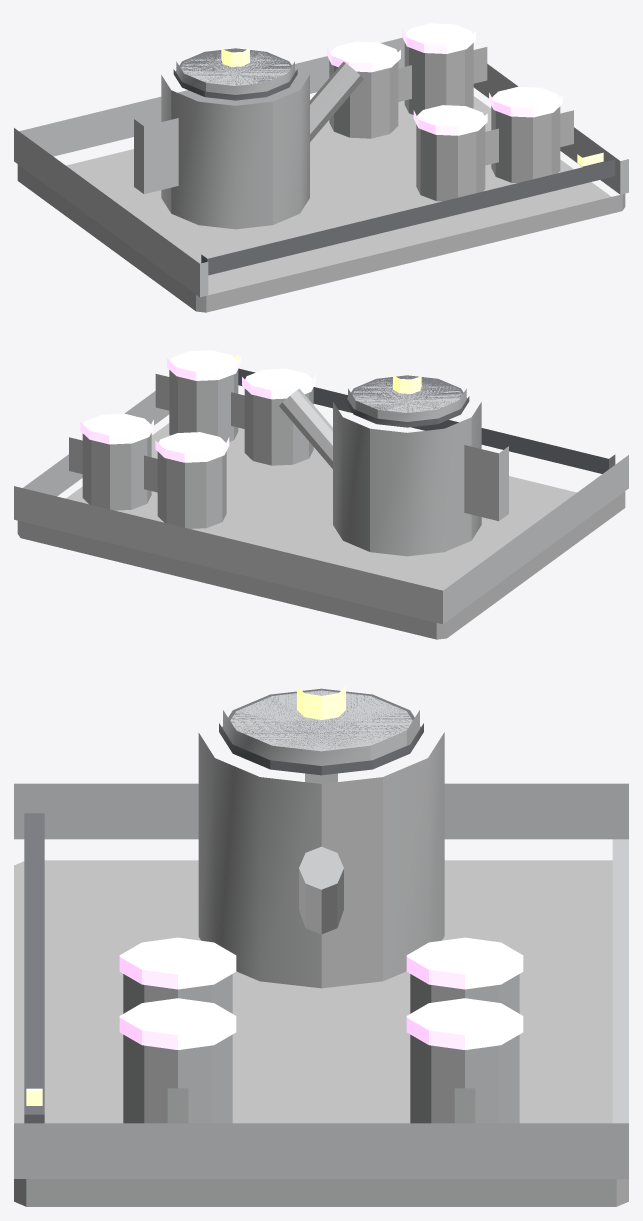
The model's file is iter_05.glb.
3 views of the same model, one above another, from view 1: azimuth 30°, elevation 25°; view 2: azimuth 150°, elevation 25°; view 3: azimuth 270°, elevation 25° (orthographic). The views are drawn at different scales.
Parts seen in each view (by area): view 1: Tray, Pot_Body, Cups, Fence, Gate_Bar, Sip_Lids, Pot_Lid, Pot_Handle, Lid_Thread, Cup_Handles, Spout, Lid_Knob; view 2: Tray, Fence, Pot_Body, Cups, Sip_Lids, Pot_Lid, Gate_Bar, Pot_Handle, Lid_Thread, Cup_Handles, Spout, Lid_Knob; view 3: Tray, Fence, Pot_Body, Cups, Sip_Lids, Pot_Lid, Gate_Bar, Lid_Thread, Spout, Cup_Handles, Lid_Knob.
Boxes of the visible parts, x1=… form: Tray: x1=17, y1=96, x2=625, y2=312; Pot_Body: x1=161, y1=75, x2=309, y2=229; Cups: x1=329, y1=42, x2=560, y2=201; Fence: x1=14, y1=37, x2=628, y2=297; Gate_Bar: x1=201, y1=159, x2=615, y2=275; Sip_Lids: x1=327, y1=23, x2=562, y2=135; Pot_Lid: x1=176, y1=52, x2=294, y2=94; Pot_Handle: x1=134, y1=118, x2=178, y2=194; Lid_Thread: x1=173, y1=48, x2=297, y2=100; Cup_Handles: x1=398, y1=47, x2=573, y2=165; Spout: x1=310, y1=62, x2=363, y2=141; Lid_Knob: x1=221, y1=45, x2=249, y2=66; Tray: x1=17, y1=423, x2=625, y2=639; Fence: x1=14, y1=391, x2=628, y2=624; Pot_Body: x1=333, y1=402, x2=481, y2=556; Cups: x1=82, y1=369, x2=313, y2=528; Sip_Lids: x1=80, y1=350, x2=315, y2=462; Pot_Lid: x1=348, y1=377, x2=466, y2=421; Gate_Bar: x1=238, y1=368, x2=615, y2=473; Pot_Handle: x1=464, y1=445, x2=508, y2=521; Lid_Thread: x1=345, y1=375, x2=469, y2=427; Cup_Handles: x1=69, y1=374, x2=244, y2=492; Spout: x1=279, y1=389, x2=332, y2=468; Lid_Knob: x1=393, y1=372, x2=421, y2=393; Tray: x1=14, y1=860, x2=628, y2=1206; Fence: x1=14, y1=783, x2=628, y2=1178; Pot_Body: x1=198, y1=732, x2=444, y2=988; Cups: x1=123, y1=974, x2=519, y2=1123; Sip_Lids: x1=119, y1=937, x2=523, y2=1049; Pot_Lid: x1=223, y1=690, x2=419, y2=765; Gate_Bar: x1=24, y1=813, x2=44, y2=1123; Lid_Thread: x1=219, y1=688, x2=423, y2=775; Spout: x1=299, y1=846, x2=343, y2=934; Cup_Handles: x1=167, y1=1088, x2=475, y2=1123; Lid_Knob: x1=297, y1=686, x2=345, y2=719.
Size of the model in its own units: 0.4 by 0.15 by 0.3.
